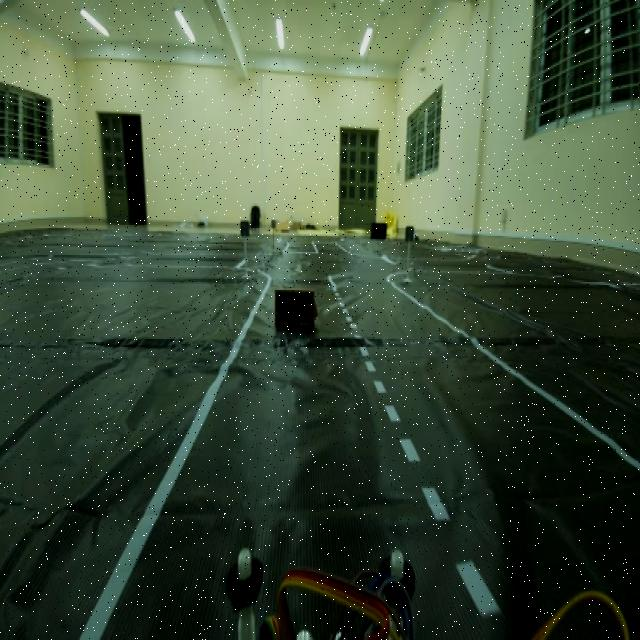roadblock: (268, 287, 321, 334)
